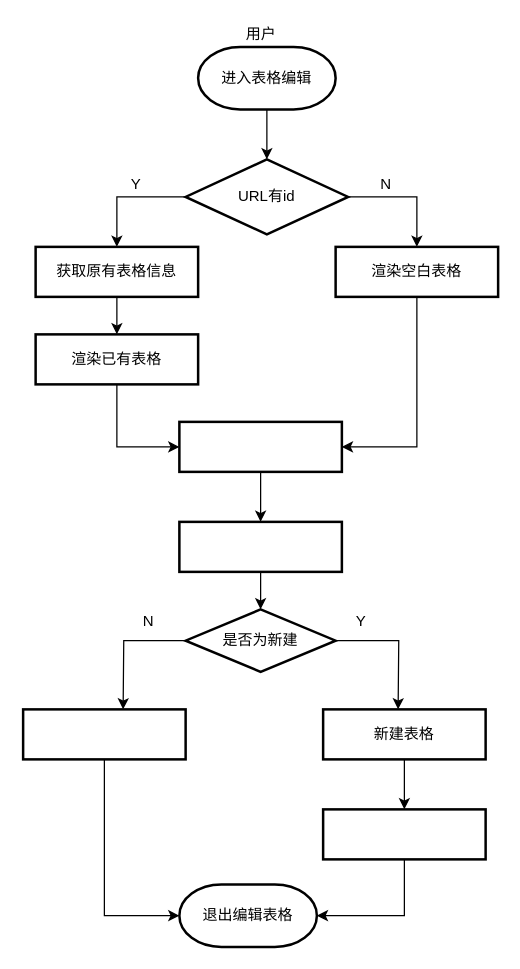
Image size: 520x969. Some labels were removed from this diagram. Here are the shapes that lost their labels. From the top down, the box of each, then its label:
(178, 420, 342, 472): 编辑表格
(178, 520, 342, 572): 保存表格
(21, 708, 186, 760): 更新表格
(321, 808, 486, 860): 留存新建id等待下次保存
